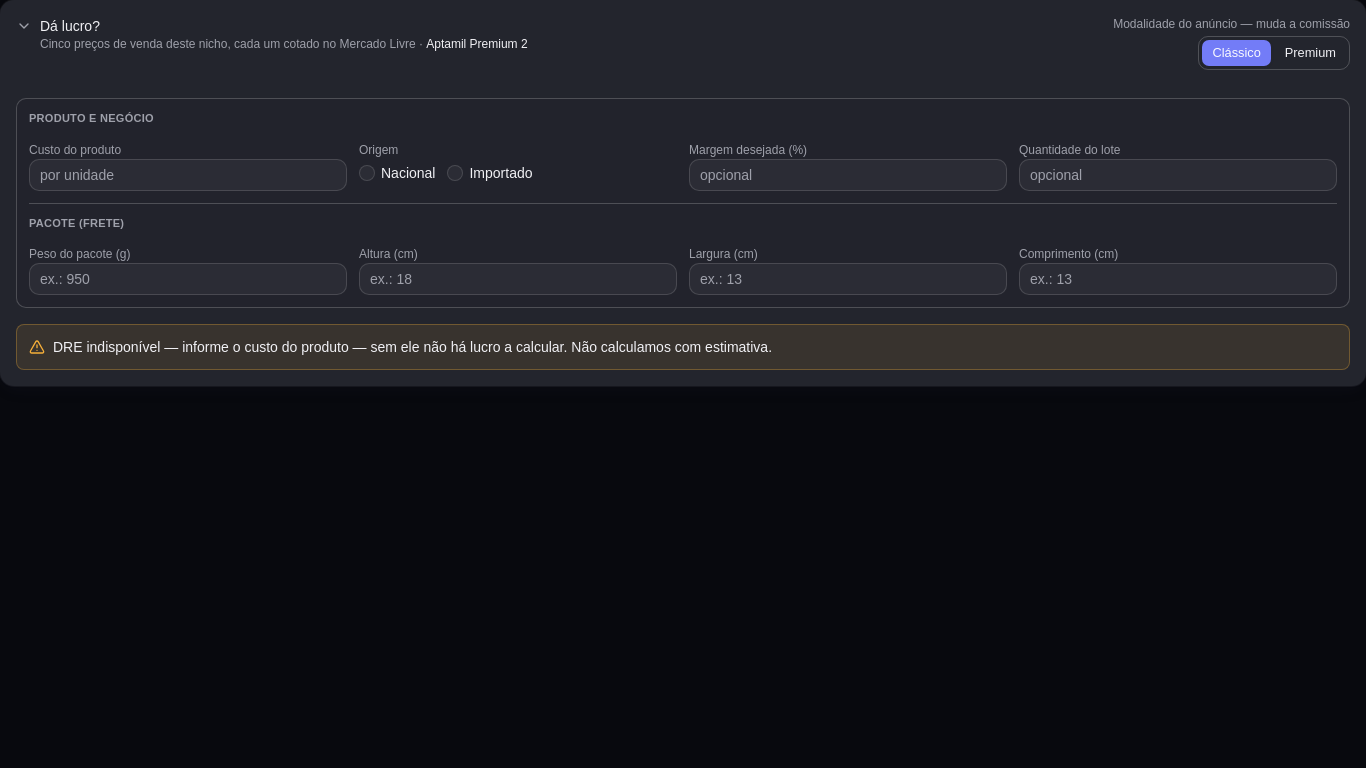
Scenario: SonarDre — seção 6 (ADR-0148) › com custo e origem, decompõe e mostra o lucro
Type "42" into the field labelled "Custo do produto" at (188, 175), box [29, 159, 347, 191]
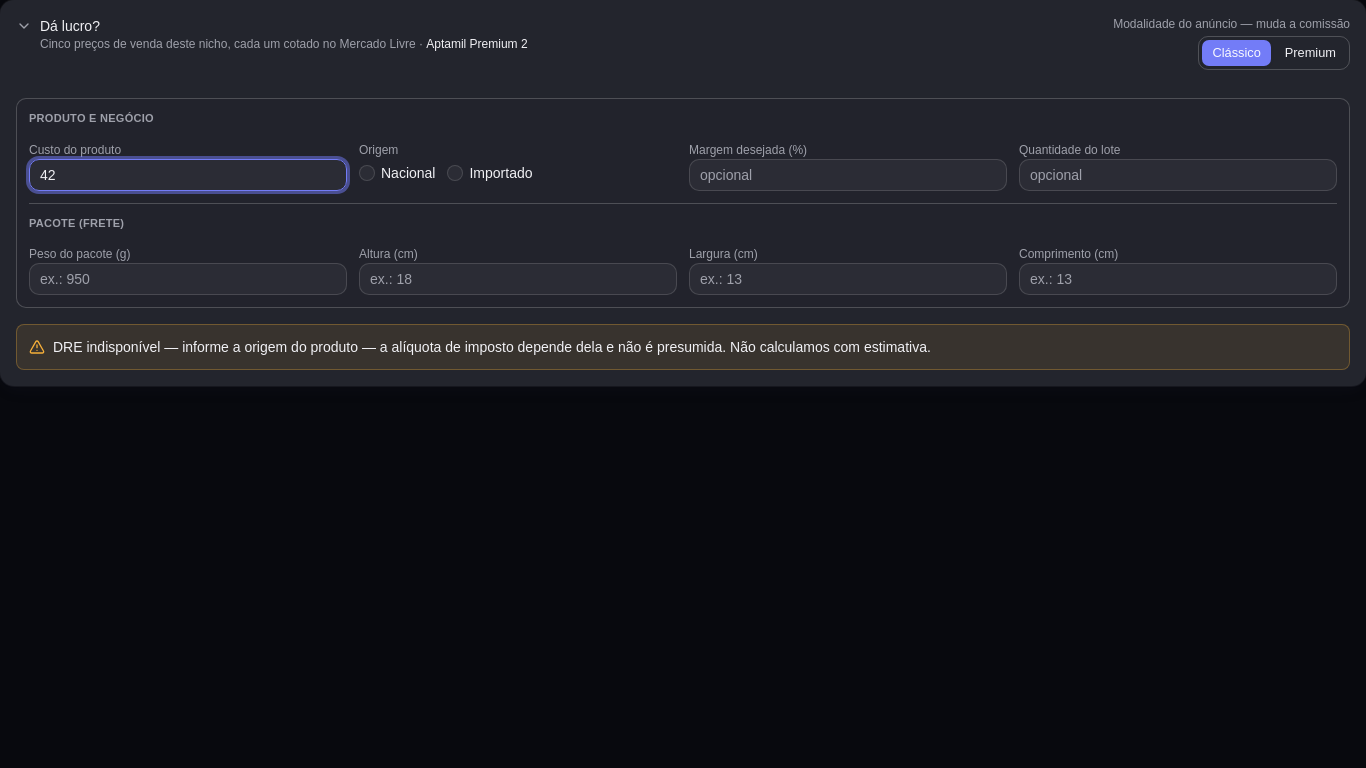
Click the radio button named "Nacional" next to "Nacional" at (367, 173), box [359, 165, 375, 181]
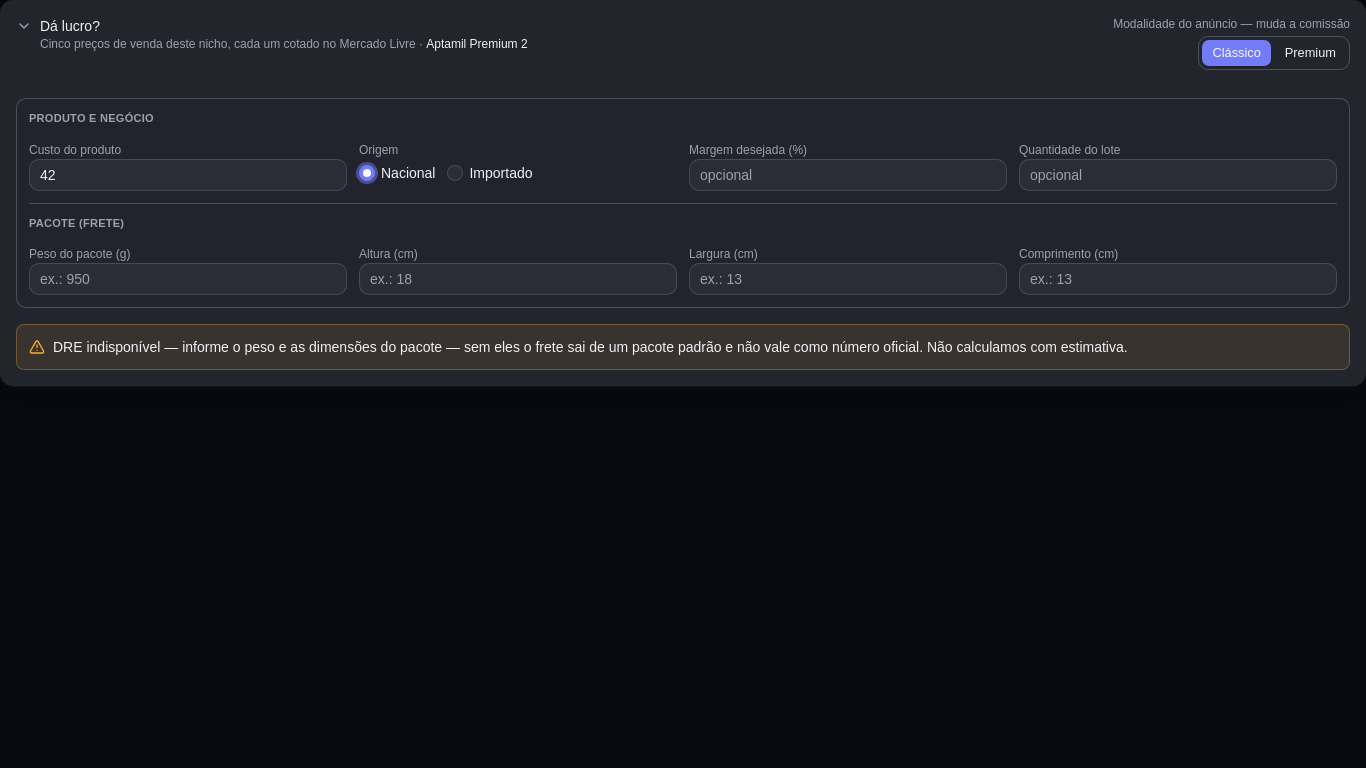
Type "950" into the field labelled "Peso do pacote (g)" at (188, 279), box [29, 263, 347, 295]
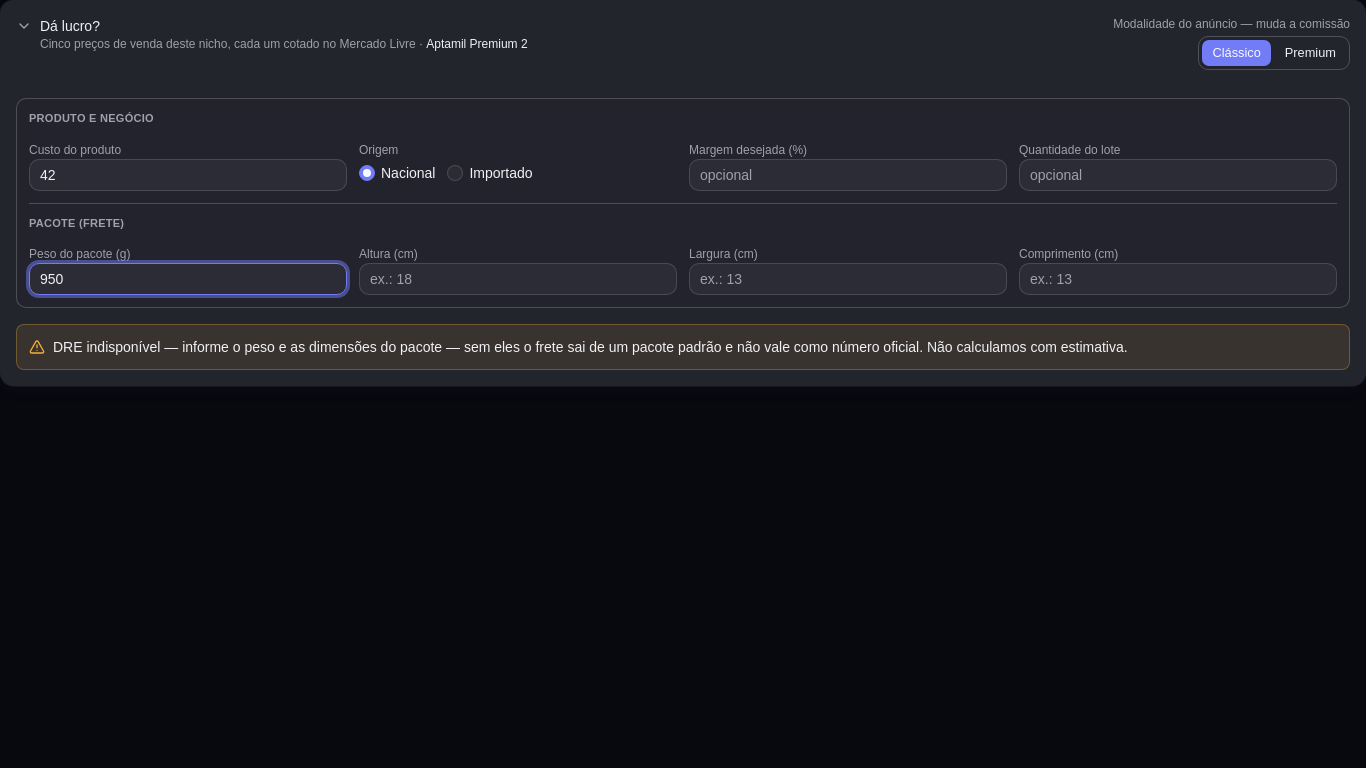
Type "18" into the field labelled "Altura (cm)" at (518, 279), box [359, 263, 677, 295]
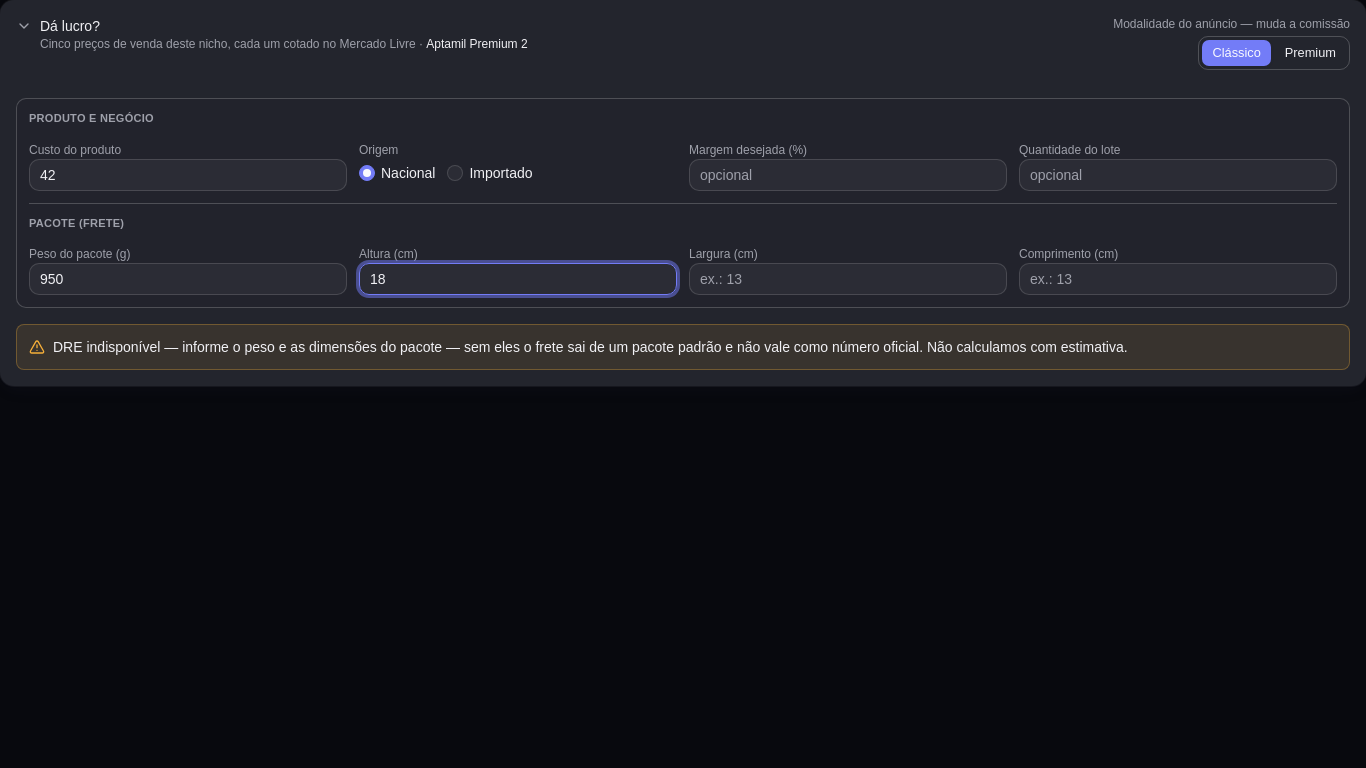
Type "13" into the field labelled "Largura (cm)" at (848, 279), box [689, 263, 1007, 295]
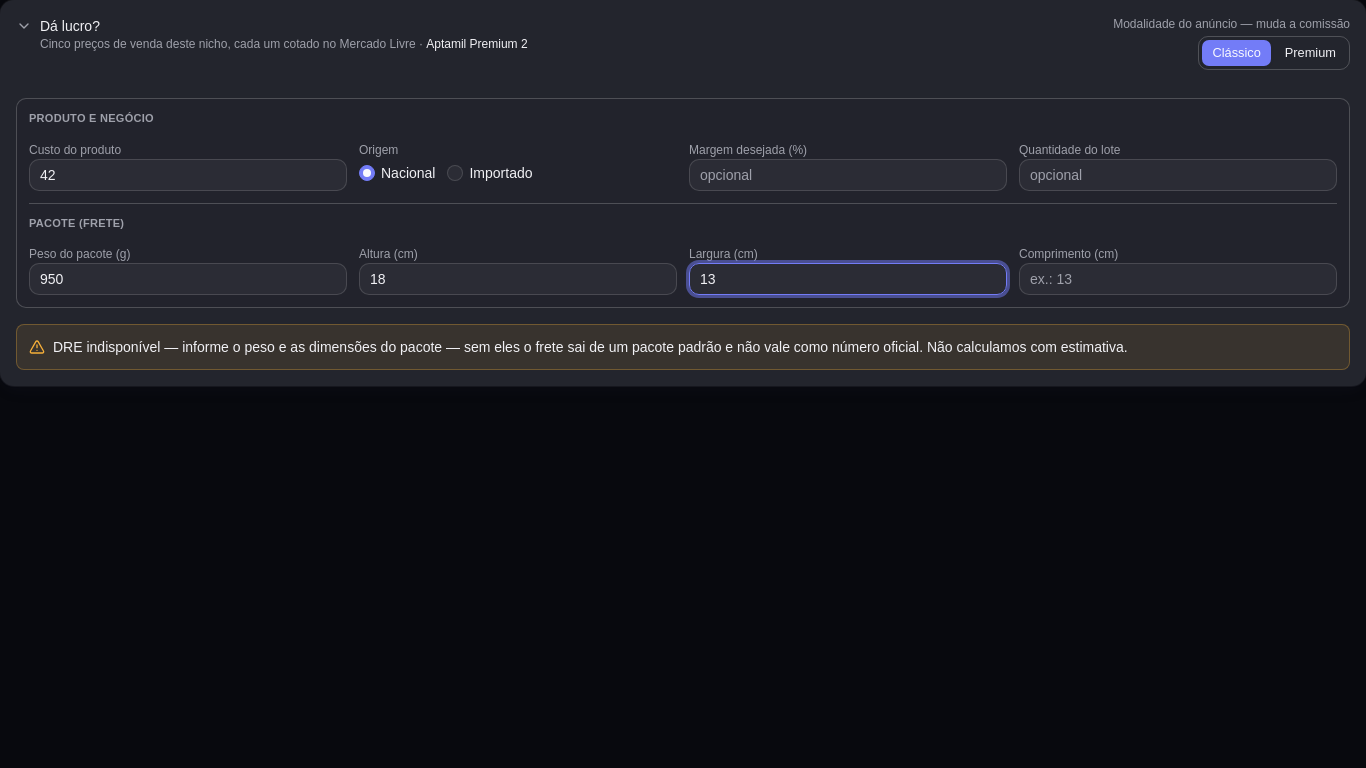
Type "13" into the field labelled "Comprimento (cm)" at (1178, 279), box [1019, 263, 1337, 295]
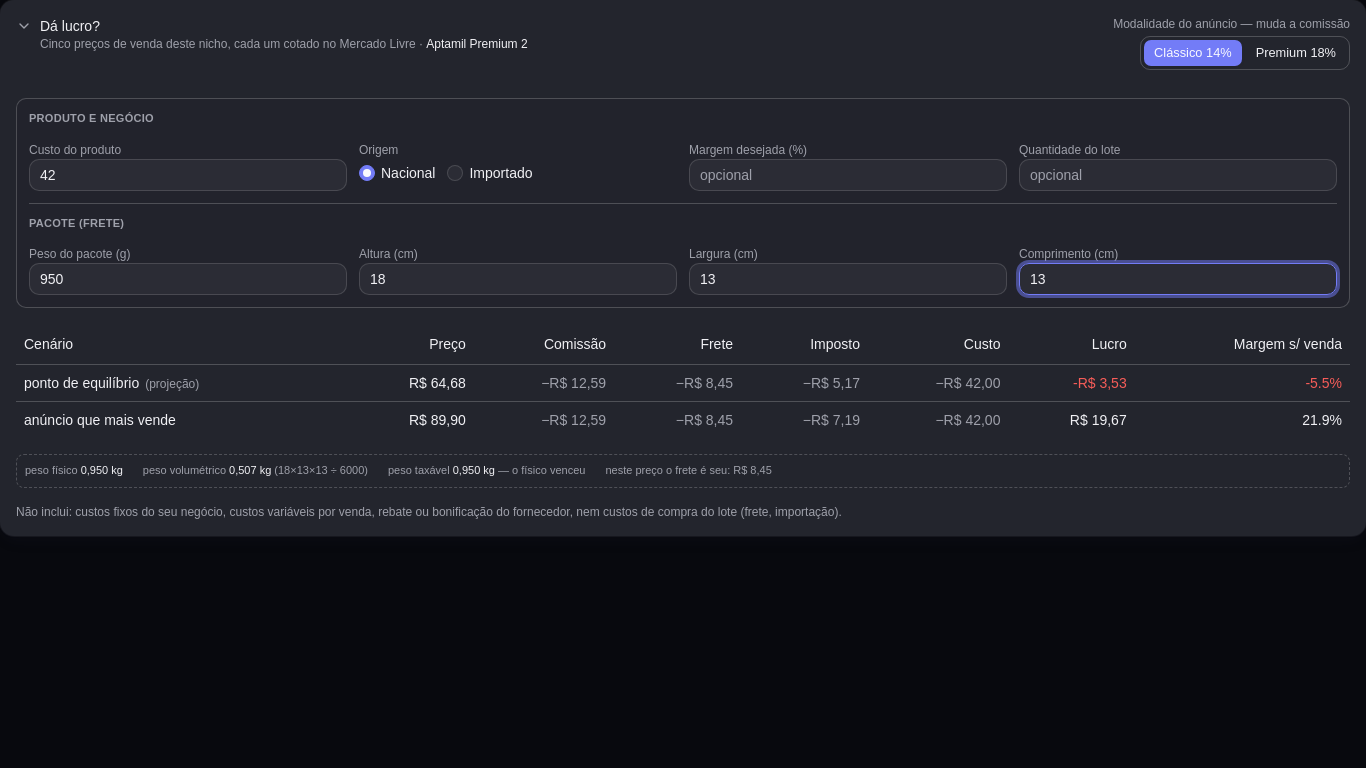
Expected: the text "R$ 19,67" is shown, [1008, 401, 1135, 438]
Expected: the text "−R$ 12,59" in the row of "ponto de equilíbrio" is shown, [549, 375, 606, 391]
Expected: the text "−R$ 8,45" in the row of "ponto de equilíbrio" is shown, [684, 375, 733, 391]
